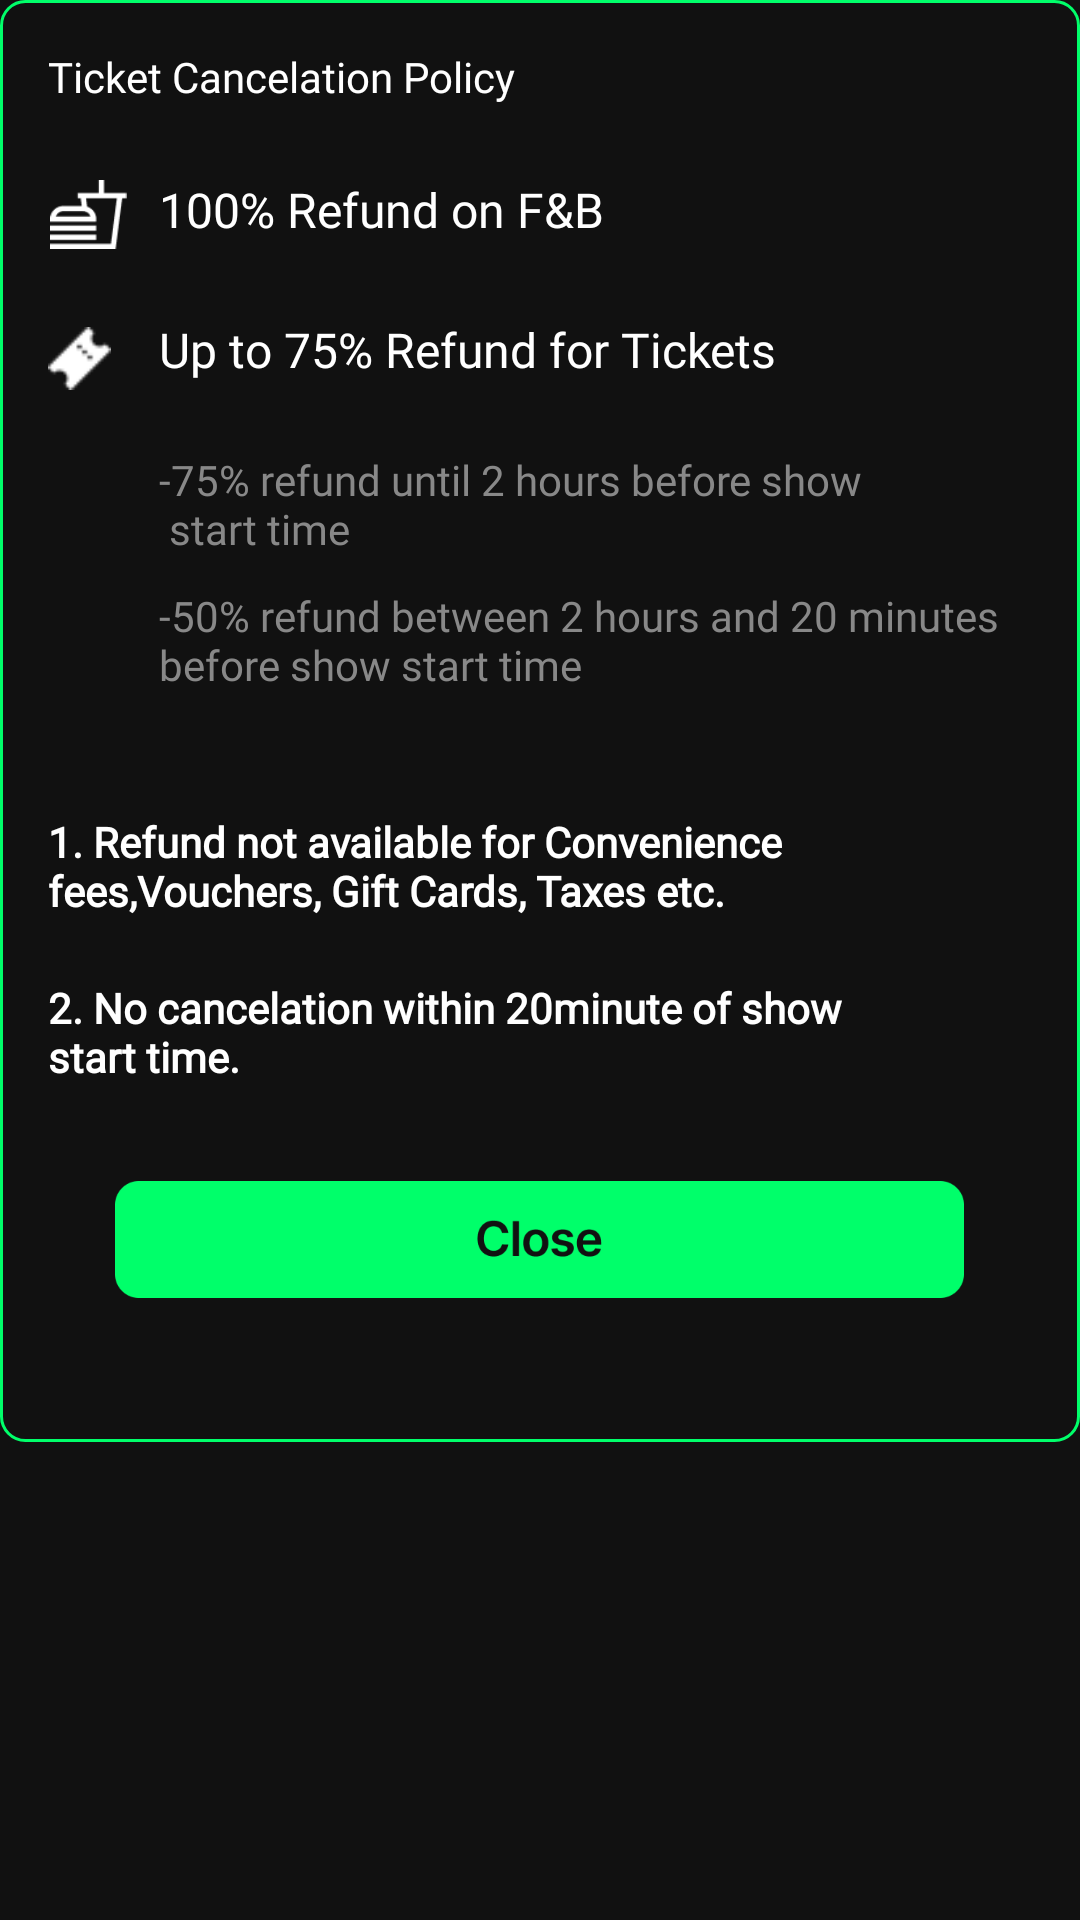

Locate icon controls on the screen. Image size 1080w x 1920h, boxes as {"left": x1, "top": y1, "right": x2, "bottom": y2}.
online food: {"left": 50, "top": 180, "right": 127, "bottom": 249}
